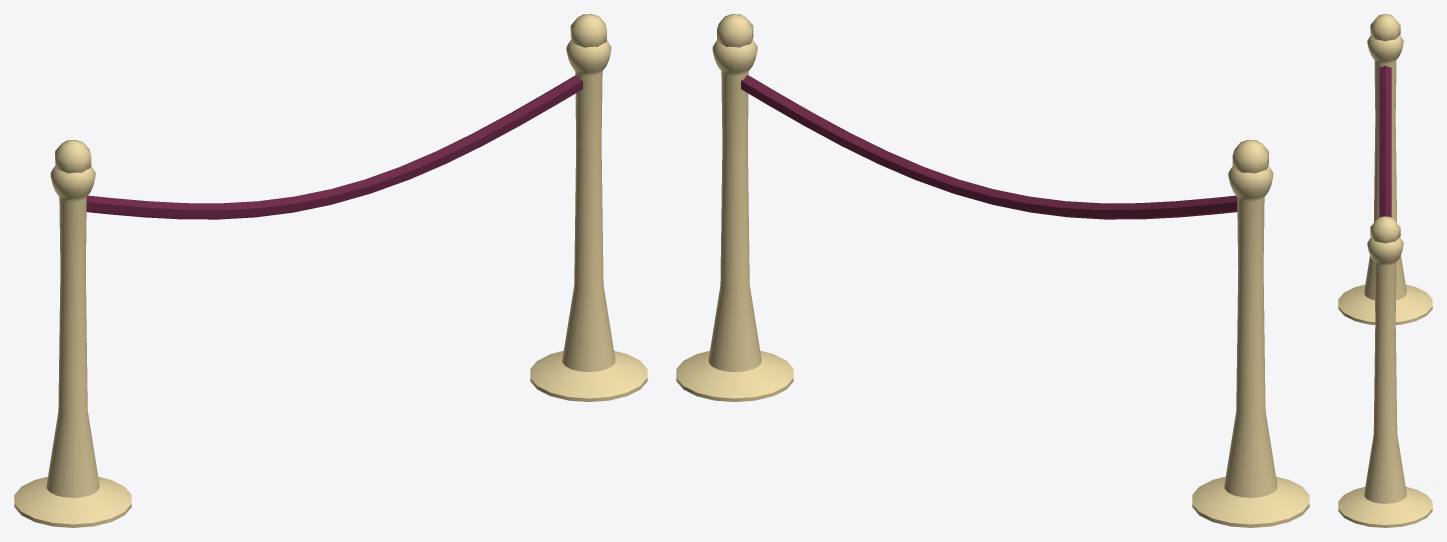
The model's file is stanchion_rope_pair.glb.
3 renders of one model, left to right at view 1: azimuth 30°, elevation 25°; view 2: azimuth 150°, elevation 25°; view 3: azimuth 270°, elevation 25°, orthographic. The views are drawn at different scales.
Parts seen in each view (by area): view 1: stanchion_rope_pair; view 2: stanchion_rope_pair; view 3: stanchion_rope_pair.
Boxes of the visible parts, box(x1,y1,x2,y2) form: stanchion_rope_pair: box(14, 14, 647, 527); stanchion_rope_pair: box(676, 14, 1309, 527); stanchion_rope_pair: box(1338, 14, 1432, 527).
Bounding box in the file's own units: 1.8 × 1.01 × 0.2954.
